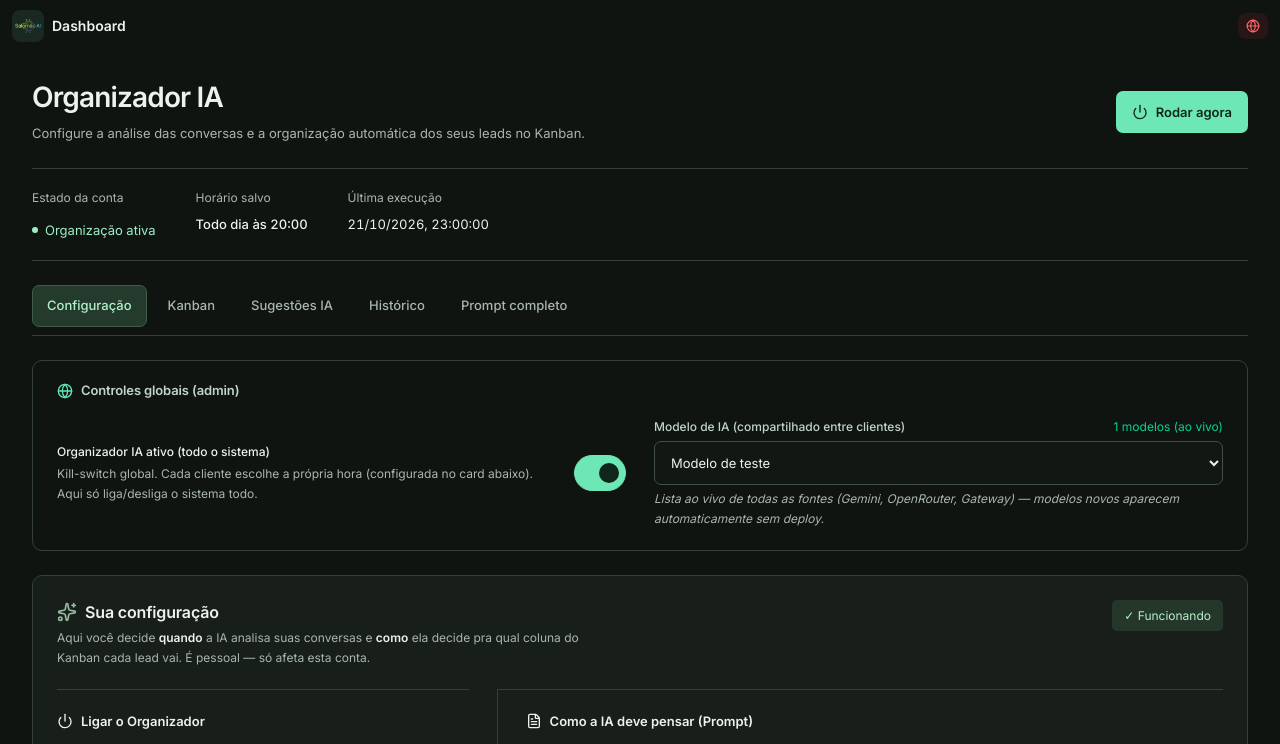
Test: Organizador IA: contratos da interface › preserva a confirmação da execução manual e a atualização do histórico
Click the button "Rodar agora": {"x": 1182, "y": 112} left=1116, top=91, right=1248, bottom=133
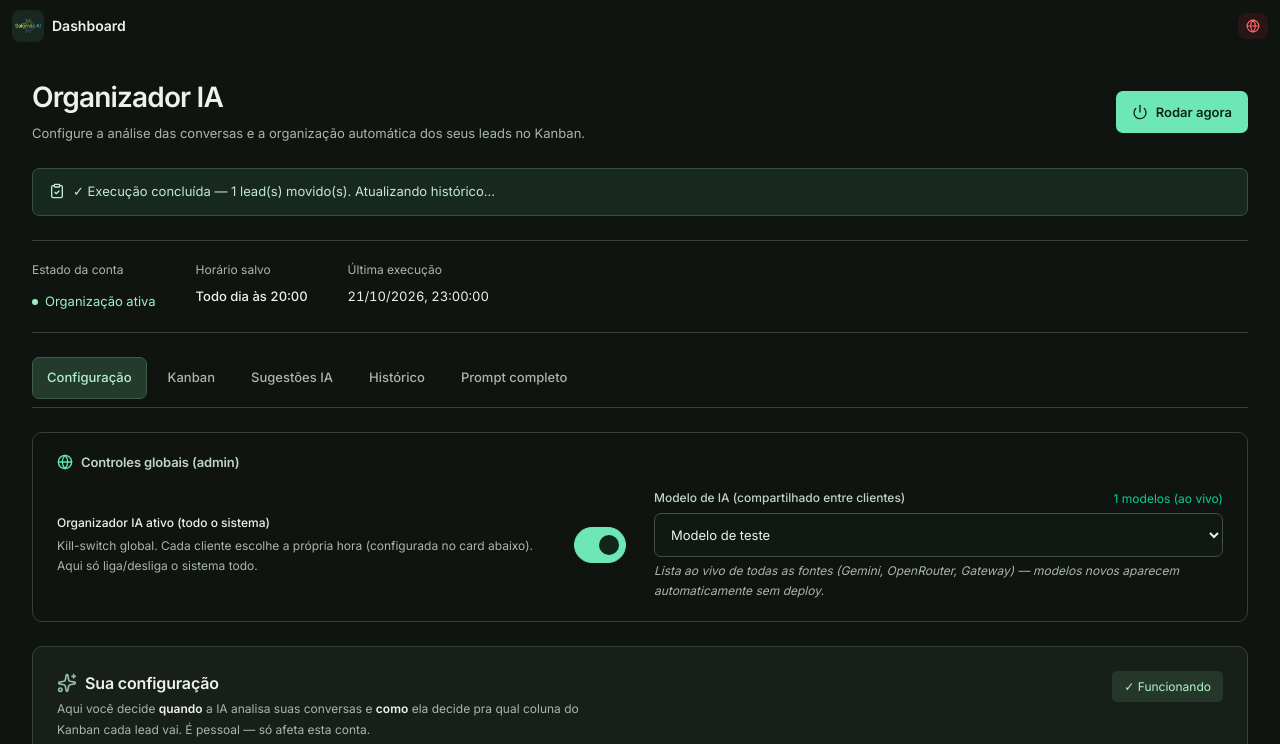
Now the message shows "Execução concluída", box left=73, top=183, right=495, bottom=199
